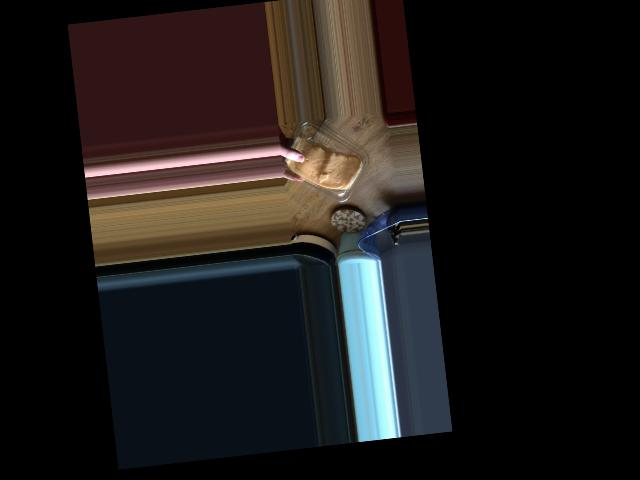cheese: (284, 115, 384, 215)
